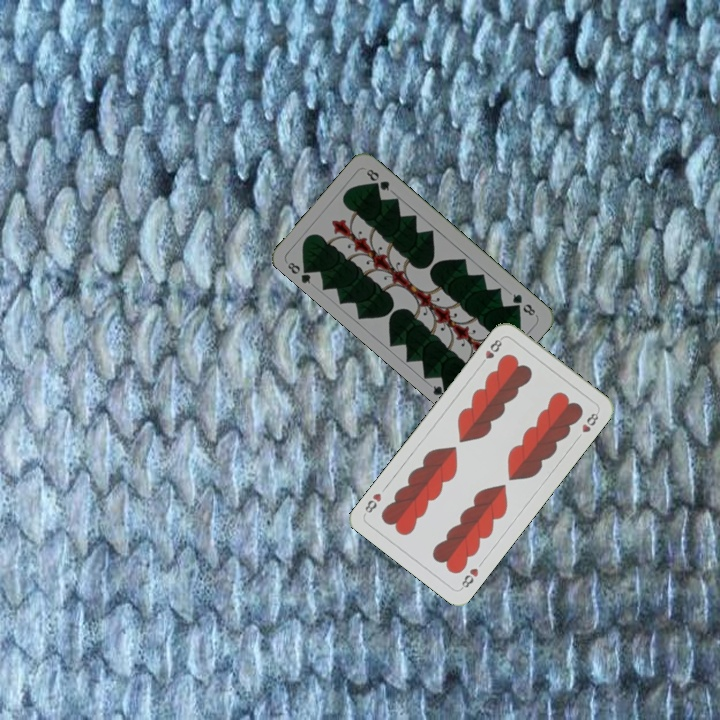G8: (508, 289, 539, 319), (283, 258, 315, 287)
H8: (476, 334, 504, 369), (456, 564, 481, 592)
